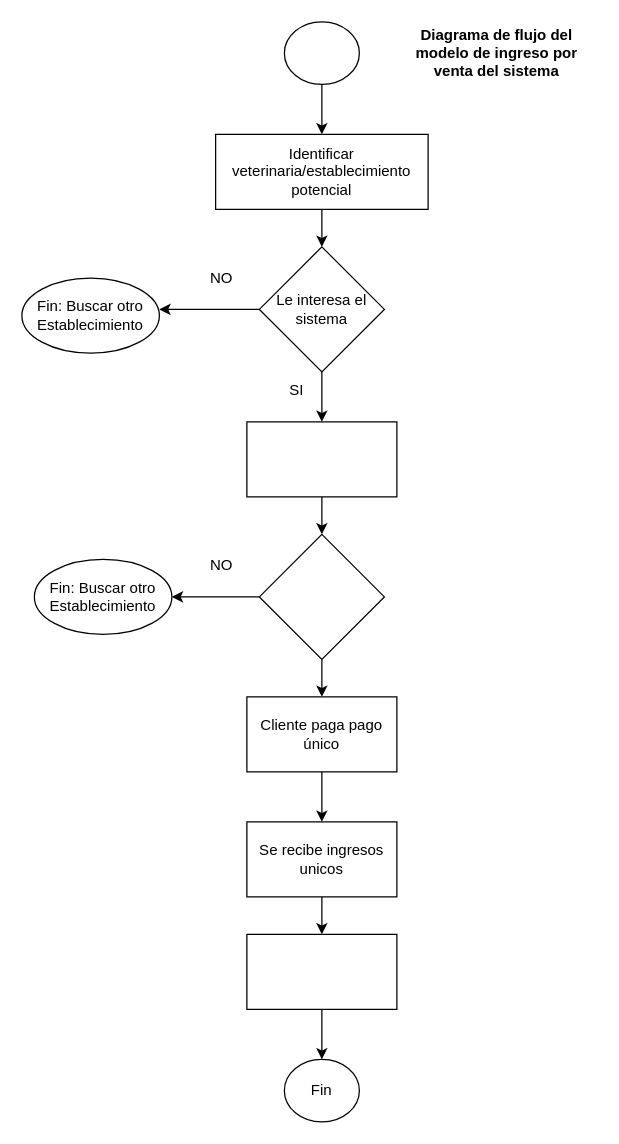
Some shapes in this 619 by 1144 pixel diagram are drawn without their labels. Each missing label, with the centre of its shape:
Inicio: the point at 321,52
Presentar demo/muestra: the point at 321,459
veterinaria usa el sistema: the point at 321,971
¿Acepta contratar el sistema?: the point at 321,596
